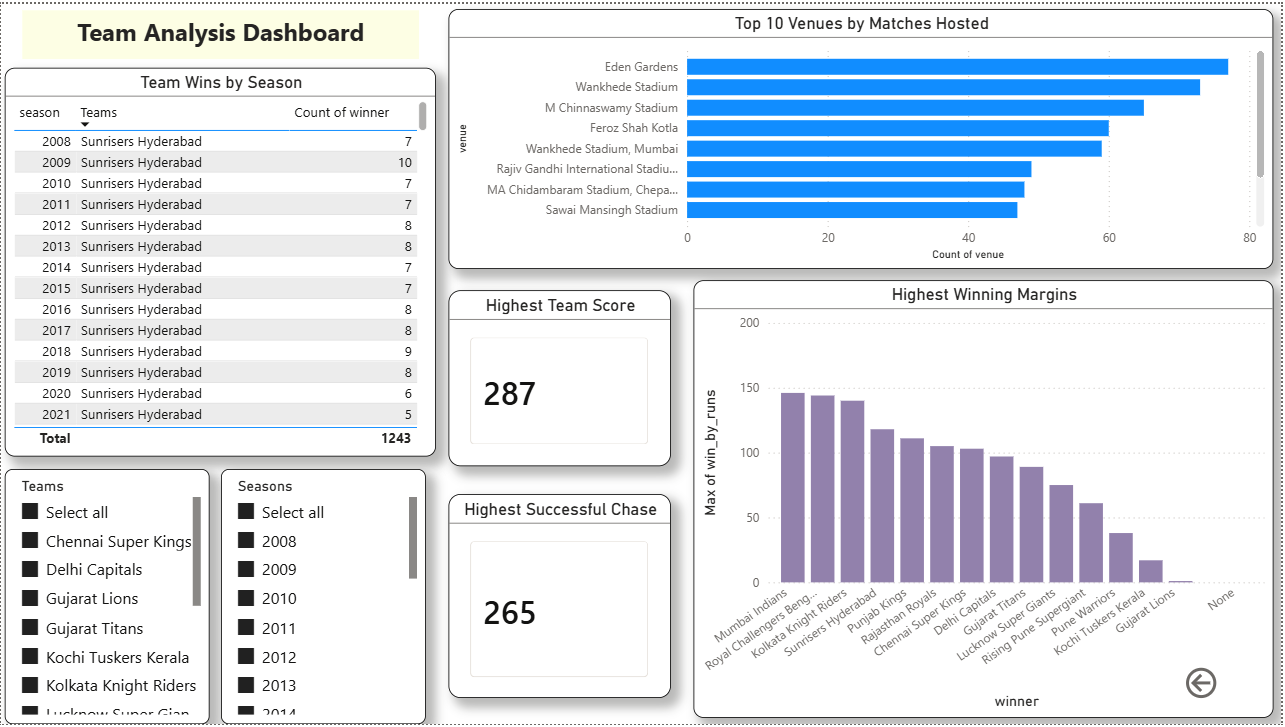

Layout of this report page (visuals, bound fields, positions):
{"tool":"powerbi","page":{"name":"Team Analysis","canvas":[1280,720],"ordinal":1},"visuals":[{"type":"tableEx","title":"Team Wins by Season","fields":{"Values":["IPL2008_2026.season","IPL_Teams.Teams","IPL2008_2026.winner"]},"box":[4.3,64.3,431.4,388.6],"z":0},{"type":"slicer","fields":{"Values":["IPL_Teams.Teams"]},"box":[3.8,465,205,255],"z":1000},{"type":"clusteredBarChart","title":"Top 10 Venues by Matches Hosted","fields":{"Category":["IPL2008_2026.venue"],"Y":["CountNonNull(IPL2008_2026.venue)"]},"box":[447.5,5,825,260],"z":2000},{"type":"columnChart","title":"Highest Winning Margins","fields":{"Y":["Max(IPL2008_2026.win_by_runs)"],"Category":["IPL2008_2026.winner"]},"box":[692.5,276.2,580,437.5],"z":3000},{"type":"slicer","fields":{"Values":["IPL2008_2026.season"]},"box":[220,465,205,255],"z":4000},{"type":"cardVisual","title":"Highest Team Score","fields":{"Data":["Max(IPL2008_2026.team1_runs)"]},"box":[447.6,286.1,222.6,176.1],"z":6000},{"type":"cardVisual","title":"Highest Successful Chase","fields":{"Data":["Max(IPL2008_2026.team2_runs)"]},"box":[447.6,490.4,222.6,204.2],"z":7000},{"type":"actionButton","box":[1180,659.1,100.3,40.4],"z":8000},{"type":"textbox","box":[21.4,5.7,397.1,48.6],"z":8001}]}

Visuals, with their boxes in screenshot pixels (x1, y1, x2, y2), scaled from the page's 1280x720 canvas onto the 1285x727 screenshot:
"Team Wins by Season" tableEx: (left=4, top=65, right=437, bottom=457)
slicer - IPL_Teams.Teams: (left=4, top=470, right=210, bottom=726)
"Top 10 Venues by Matches Hosted" clusteredBarChart: (left=449, top=5, right=1277, bottom=268)
"Highest Winning Margins" columnChart: (left=695, top=279, right=1277, bottom=721)
slicer - IPL2008_2026.season: (left=221, top=470, right=427, bottom=726)
"Highest Team Score" cardVisual: (left=449, top=289, right=673, bottom=467)
"Highest Successful Chase" cardVisual: (left=449, top=495, right=673, bottom=701)
actionButton: (left=1185, top=666, right=1284, bottom=706)
textbox: (left=21, top=6, right=420, bottom=55)
